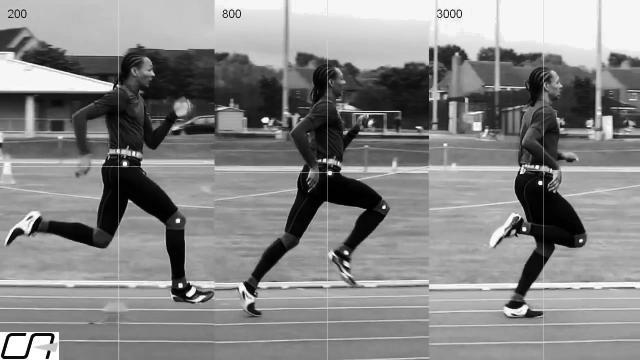berlari: (3, 38, 215, 306), (238, 56, 394, 330), (482, 65, 602, 323)
